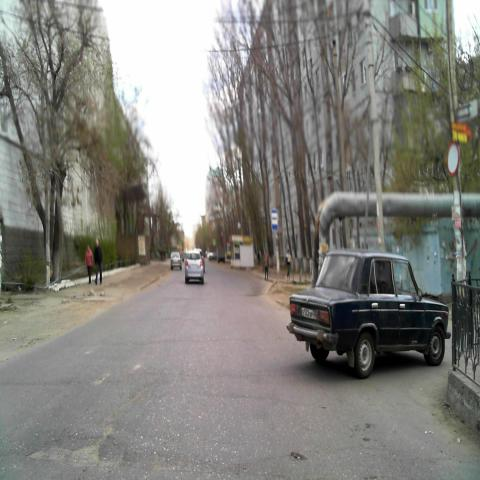3_2: (447, 142, 460, 178)
